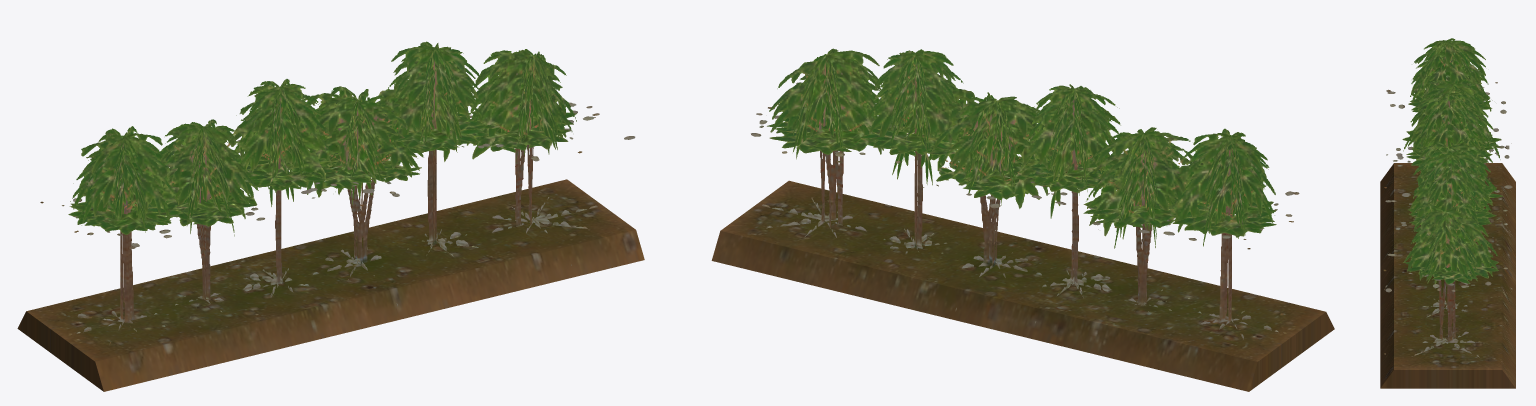
Rendered from cassava_row.glb.
3 views of the same model, side by side, from view 1: azimuth 30°, elevation 25°; view 2: azimuth 150°, elevation 25°; view 3: azimuth 270°, elevation 25° (orthographic). The views are drawn at different scales.
Visible parts, largest first — view 1: cassava_row; view 2: cassava_row; view 3: cassava_row.
Part boxes in pixels (<box>): cassava_row: <box>17,41,644,391</box>; cassava_row: <box>711,48,1334,391</box>; cassava_row: <box>1380,38,1515,388</box>.
Bounding box in the file's own units: 3.95 × 1.48 × 1.18.
Materials: 1 (1 with a texture image).
